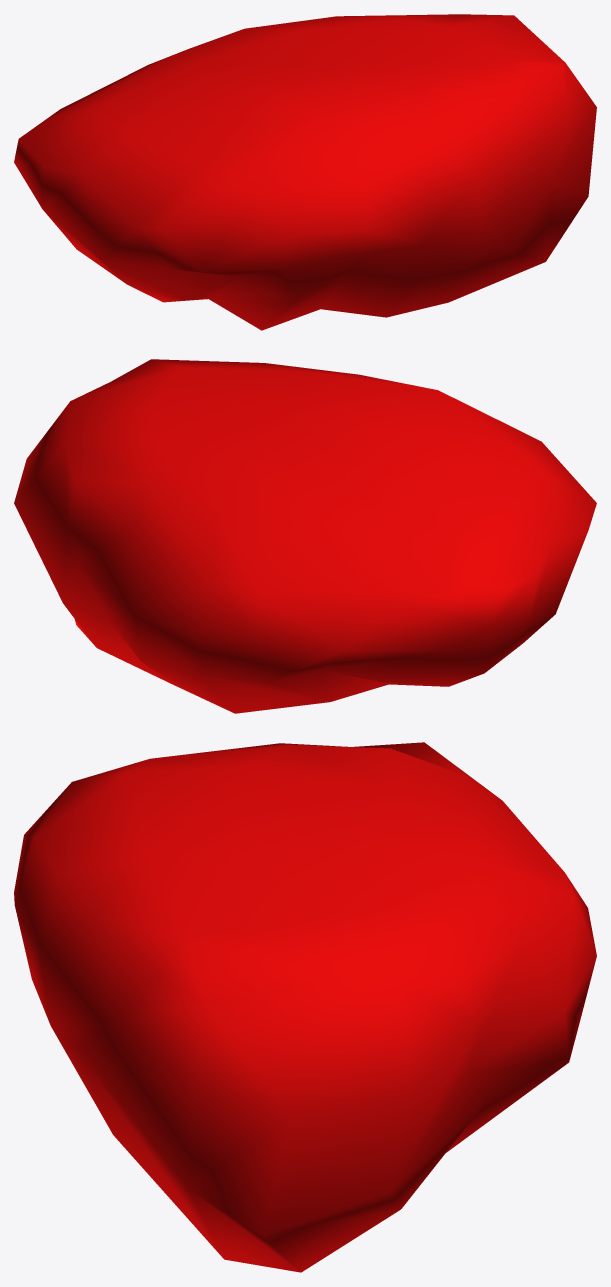
Rendered from FloatyWallAttachment02_mesh.fbx.
3 renders of one model, top to bottom at view 1: azimuth 30°, elevation 25°; view 2: azimuth 150°, elevation 25°; view 3: azimuth 270°, elevation 25°, orthographic. The views are drawn at different scales.
Visible parts, largest first — view 1: Floaty_wallattachment02_model; view 2: Floaty_wallattachment02_model; view 3: Floaty_wallattachment02_model.
Boxes of the visible parts, <box> form: Floaty_wallattachment02_model: <box>14,14,596,330</box>; Floaty_wallattachment02_model: <box>14,359,596,713</box>; Floaty_wallattachment02_model: <box>14,742,596,1272</box>.
Size of the model in its own units: 63.99 by 30.74 by 48.14.
